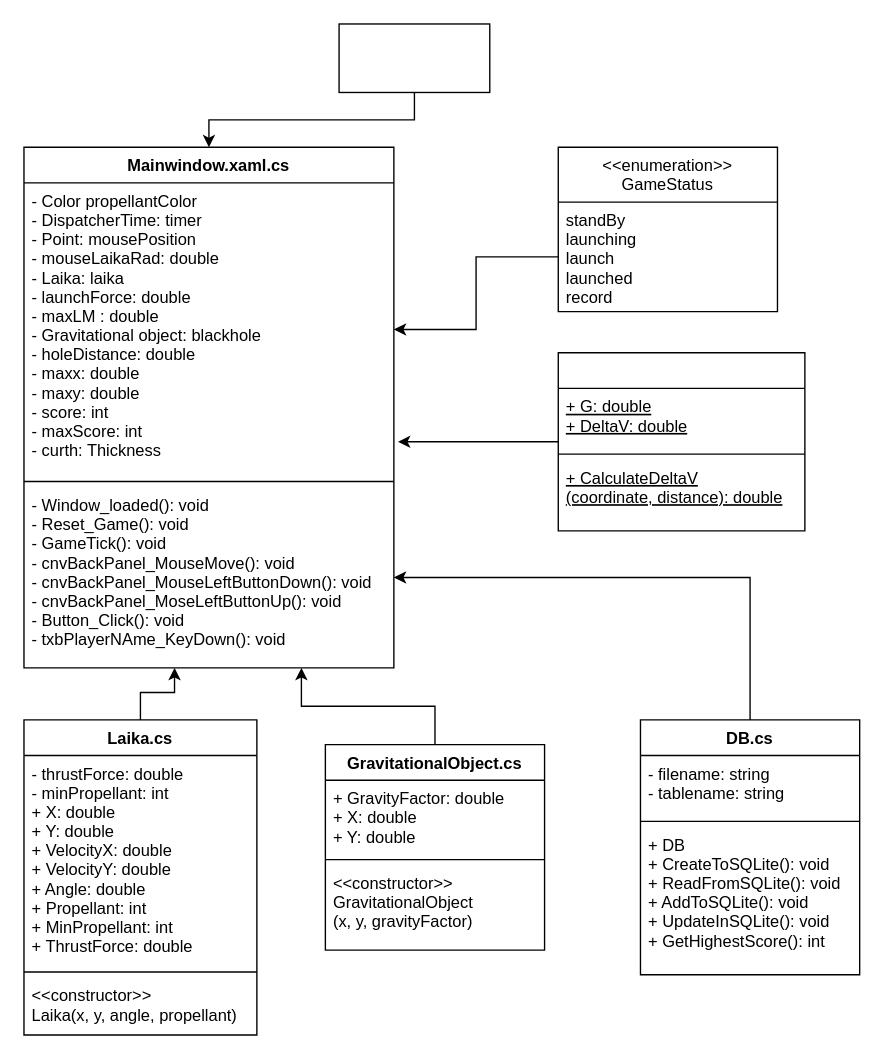
The diagram is 884 pixels wide and 1063 high, and some of its shapes have lost their labels. Here are the shapes that lost their labels. From the top down, the box of each, then its label:
(338, 23, 490, 92): «interface» Mainwindow.xaml
(557, 351, 805, 531): Utils.cs
